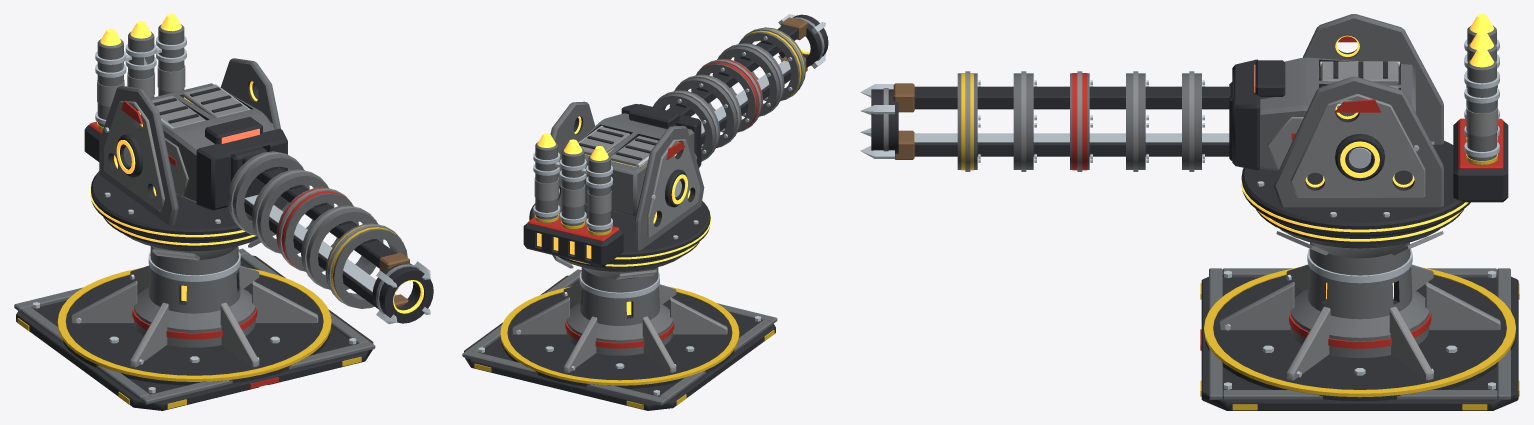
File: R4W_Railgun.glb
3 views of the same model, side by side, from view 1: azimuth 30°, elevation 25°; view 2: azimuth 150°, elevation 25°; view 3: azimuth 270°, elevation 25° (orthographic). The views are drawn at different scales.
Parts seen in each view (by area): view 1: R4W_Railgun_Base, R4W_Railgun_Yaw, R4W_Railgun_Rails, R4W_Railgun_Pitch, R4W_Railgun_Emitter, R4W_Railgun_VentFlap_R, R4W_Railgun_VentFlap_L; view 2: R4W_Railgun_Base, R4W_Railgun_Yaw, R4W_Railgun_Rails, R4W_Railgun_Pitch, R4W_Railgun_Emitter, R4W_Railgun_VentFlap_L, R4W_Railgun_VentFlap_R; view 3: R4W_Railgun_Base, R4W_Railgun_Yaw, R4W_Railgun_Rails, R4W_Railgun_Pitch, R4W_Railgun_Emitter, R4W_Railgun_VentFlap_L.
Part boxes in pixels (bbox=[...]): R4W_Railgun_Base: bbox=[14, 217, 375, 410]; R4W_Railgun_Yaw: bbox=[84, 14, 288, 240]; R4W_Railgun_Rails: bbox=[227, 147, 409, 308]; R4W_Railgun_Pitch: bbox=[123, 83, 287, 210]; R4W_Railgun_Emitter: bbox=[372, 261, 433, 324]; R4W_Railgun_VentFlap_R: bbox=[183, 84, 250, 117]; R4W_Railgun_VentFlap_L: bbox=[152, 95, 205, 128]; R4W_Railgun_Base: bbox=[462, 242, 777, 410]; R4W_Railgun_Yaw: bbox=[523, 101, 710, 267]; R4W_Railgun_Rails: bbox=[652, 17, 807, 161]; R4W_Railgun_Pitch: bbox=[578, 104, 701, 216]; R4W_Railgun_Emitter: bbox=[778, 14, 828, 68]; R4W_Railgun_VentFlap_L: bbox=[610, 136, 658, 167]; R4W_Railgun_VentFlap_R: bbox=[578, 126, 629, 155]; R4W_Railgun_Base: bbox=[1200, 209, 1519, 410]; R4W_Railgun_Yaw: bbox=[1241, 14, 1508, 236]; R4W_Railgun_Rails: bbox=[893, 71, 1273, 171]; R4W_Railgun_Pitch: bbox=[1232, 57, 1415, 174]; R4W_Railgun_Emitter: bbox=[860, 84, 898, 158]; R4W_Railgun_VentFlap_L: bbox=[1320, 61, 1399, 84].
Bounding box in the file's own units: 0.5126 × 0.552 × 1.06.
